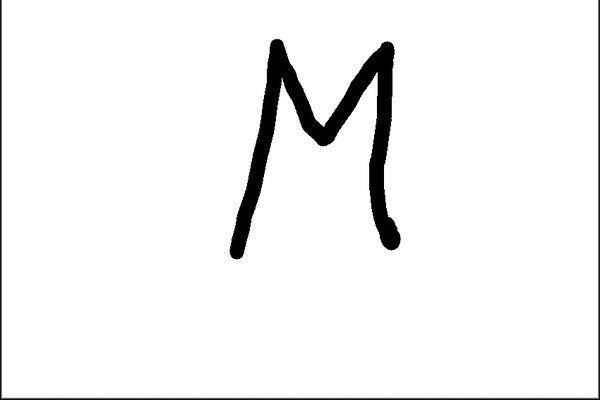M: (226, 36, 407, 253)
